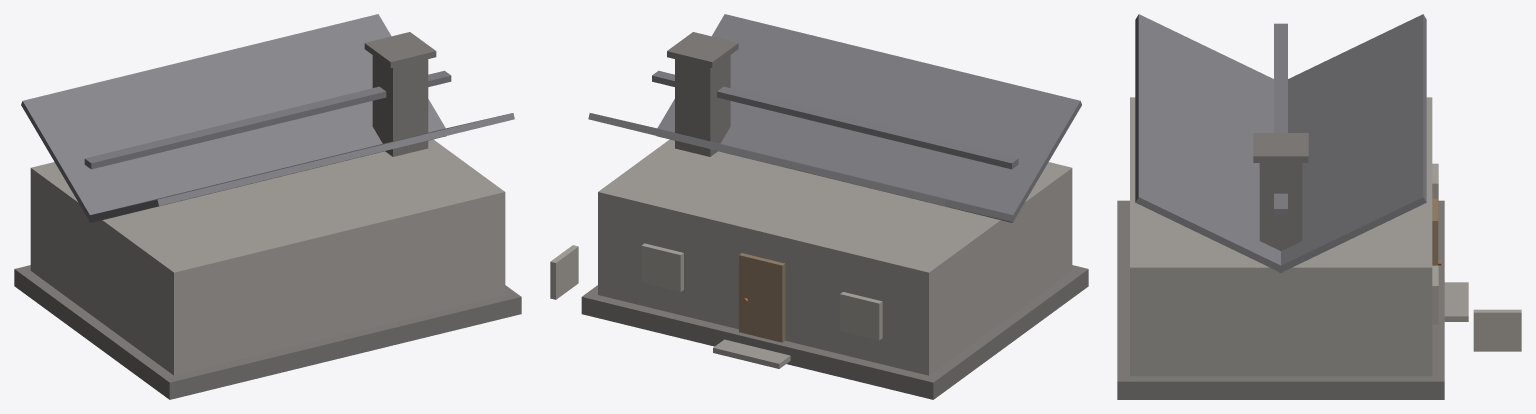
File: LL_Keepers_House.fbx
3 views of the same model, side by side, from view 1: azimuth 30°, elevation 25°; view 2: azimuth 150°, elevation 25°; view 3: azimuth 270°, elevation 25° (orthographic). The views are drawn at different scales.
Parts seen in each view (by area): view 1: LL_House_Walls, LL_House_Roof_S, LL_House_Foundation, LL_House_Chimney, LL_House_Ridge, LL_House_Roof_N, LL_House_ChimneyCap; view 2: LL_House_Walls, LL_House_Roof_N, LL_House_Foundation, LL_House_Chimney, LL_House_Ridge, LL_House_Door, LL_House_Roof_S, LL_House_WindowFrame_0, LL_House_WindowFrame_1, LL_House_ChimneyCap, LL_House_WindowFrame_2, LL_House_Step; view 3: LL_House_Walls, LL_House_Roof_N, LL_House_Roof_S, LL_House_Foundation, LL_House_Chimney, LL_House_WindowFrame_2, LL_House_Ridge, LL_House_ChimneyCap, LL_House_Step, LL_House_Door, LL_House_WindowFrame_1.
Part boxes in pixels (x1,y1,x2,y2): LL_House_Walls: (30,139,505,375); LL_House_Roof_S: (21,14,446,222); LL_House_Foundation: (14,265,521,399); LL_House_Chimney: (372,55,428,156); LL_House_Ridge: (84,70,451,169); LL_House_Roof_N: (88,113,514,222); LL_House_ChimneyCap: (364,32,436,67); LL_House_Walls: (598,139,1072,375); LL_House_Roof_N: (657,14,1081,222); LL_House_Foundation: (581,265,1088,399); LL_House_Chimney: (675,55,730,156); LL_House_Ridge: (652,70,1018,169); LL_House_Door: (739,253,785,342); LL_House_Roof_S: (588,113,1013,221); LL_House_WindowFrame_0: (840,292,882,340); LL_House_WindowFrame_1: (641,243,683,291); LL_House_ChimneyCap: (667,32,738,68); LL_House_WindowFrame_2: (550,245,578,299); LL_House_Step: (713,339,790,368); LL_House_Walls: (1130,97,1432,376); LL_House_Roof_N: (1135,14,1285,272); LL_House_Roof_S: (1279,14,1426,273); LL_House_Foundation: (1117,200,1444,399); LL_House_Chimney: (1259,163,1302,250); LL_House_WindowFrame_2: (1473,309,1521,351); LL_House_Ridge: (1274,23,1287,215); LL_House_ChimneyCap: (1253,133,1308,162); LL_House_Step: (1444,282,1468,321); LL_House_Door: (1432,198,1438,265); LL_House_WindowFrame_1: (1432,265,1438,324).
Size of the model in its own units: 8.7 by 5.12 by 8.03.
